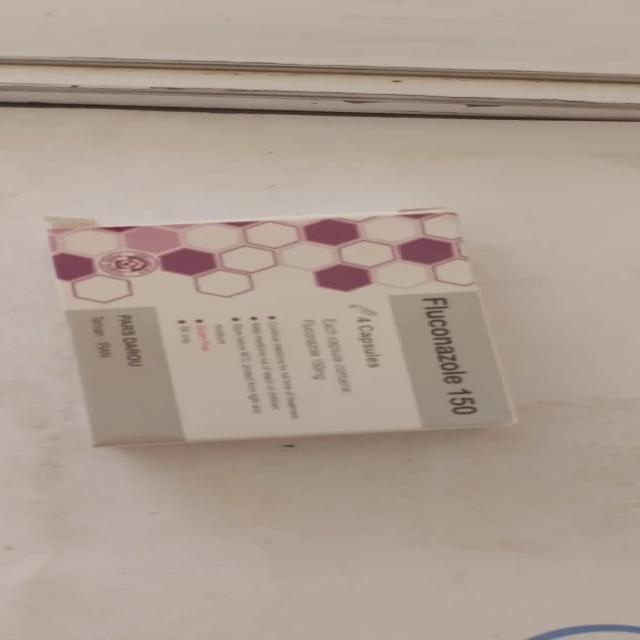drug-name: (414, 295, 482, 420)
